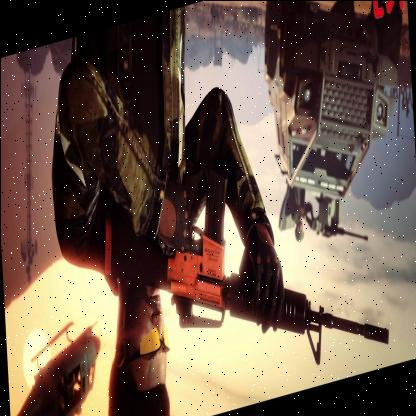rifle: (102, 106, 391, 416)
